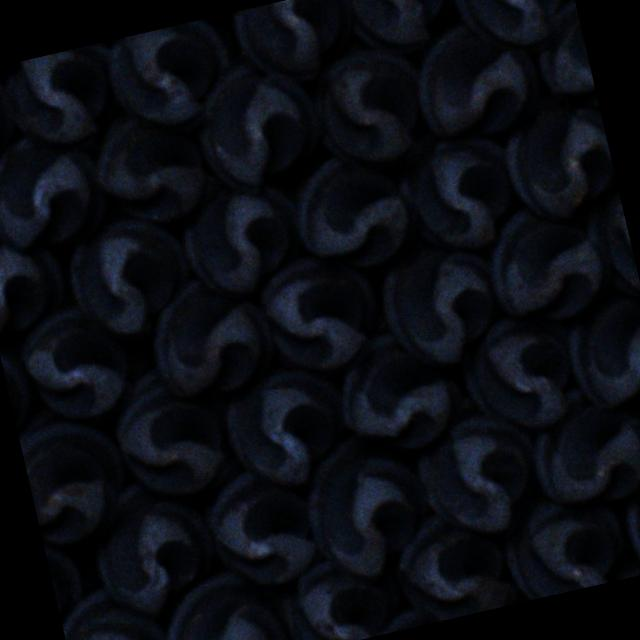tool_b: (96, 338, 240, 510), (292, 422, 439, 586), (404, 384, 546, 544), (185, 50, 332, 202), (322, 318, 470, 465), (81, 468, 222, 622), (168, 162, 312, 306), (387, 117, 528, 264), (402, 10, 546, 152), (58, 206, 202, 348), (215, 352, 355, 498), (189, 444, 321, 598), (304, 34, 439, 184), (371, 233, 513, 375), (14, 392, 140, 551), (142, 266, 284, 406), (453, 304, 590, 444), (251, 242, 388, 381), (81, 100, 220, 236), (493, 86, 622, 229), (478, 195, 612, 331), (284, 146, 416, 280), (519, 372, 640, 518), (386, 500, 520, 628), (11, 296, 138, 428), (102, 15, 238, 134), (494, 481, 626, 603), (0, 122, 114, 261), (0, 42, 122, 154), (230, 0, 359, 91), (271, 548, 393, 640), (148, 561, 288, 640), (558, 296, 640, 413), (0, 222, 71, 341), (340, 0, 466, 65), (448, 0, 582, 57), (56, 577, 176, 640), (0, 65, 24, 177), (616, 465, 640, 575)
